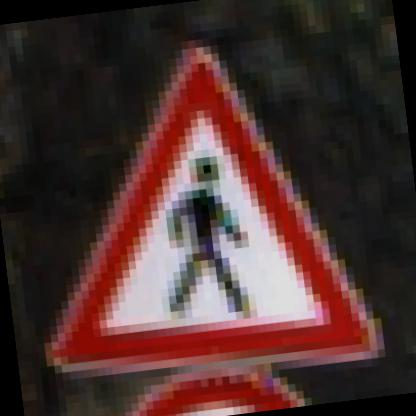crosswalk: (11, 26, 369, 402)
